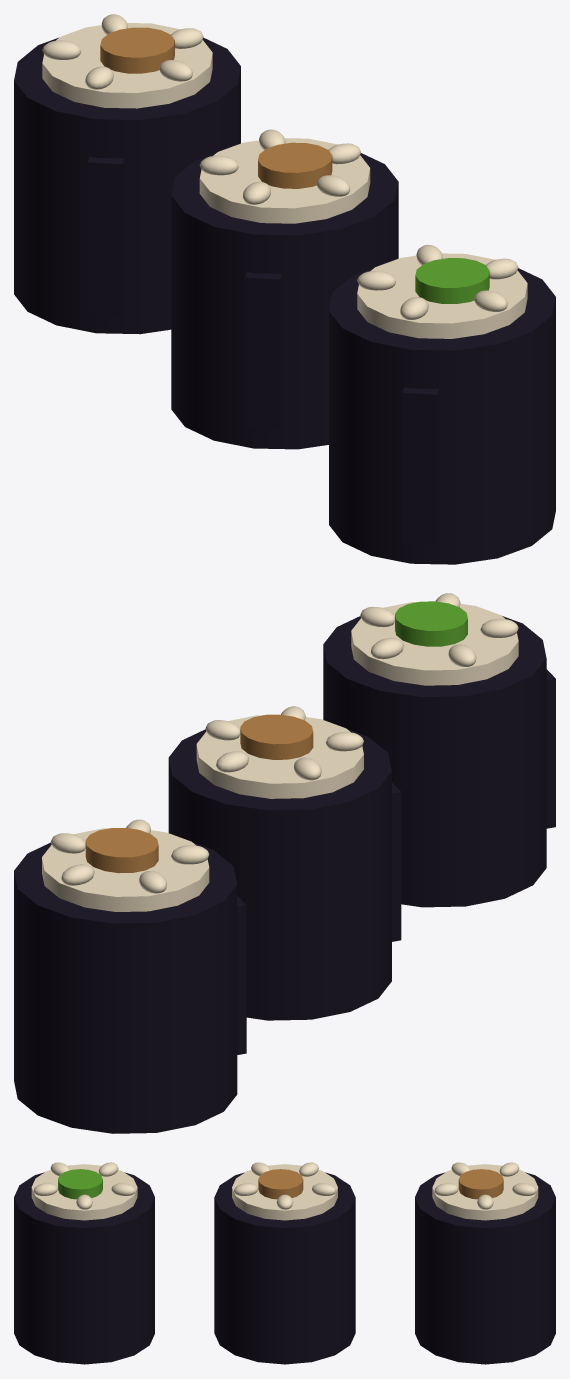
The model's file is CMU3DCMMREFoodSushiExtraCloud.glb.
3 renders of one model, top to bottom at view 1: azimuth 30°, elevation 25°; view 2: azimuth 150°, elevation 25°; view 3: azimuth 270°, elevation 25°, orthographic. The views are drawn at different scales.
Visible parts, largest first — view 1: MRE maki 3 dark nori wrapper, MRE maki 1 dark nori wrapper, MRE maki 2 dark nori wrapper, MRE maki 2 exposed rice cross-section, MRE maki 3 exposed rice cross-section, MRE maki 1 exposed rice cross-section, MRE maki 3 wrapper overlap seam, MRE maki 1 wrapper overlap seam, MRE maki 2 wrapper overlap seam, MRE maki 1 central filling, MRE maki 2 central filling, MRE maki 3 central filling; view 2: MRE maki 1 dark nori wrapper, MRE maki 3 dark nori wrapper, MRE maki 2 dark nori wrapper, MRE maki 2 exposed rice cross-section, MRE maki 1 exposed rice cross-section, MRE maki 3 exposed rice cross-section, MRE maki 2 central filling, MRE maki 1 central filling, MRE maki 3 central filling, MRE maki 3 wrapper overlap seam, MRE maki 1 wrapper overlap seam, MRE maki 2 wrapper overlap seam; view 3: MRE maki 2 dark nori wrapper, MRE maki 1 dark nori wrapper, MRE maki 3 dark nori wrapper, MRE maki 1 exposed rice cross-section, MRE maki 3 exposed rice cross-section, MRE maki 2 exposed rice cross-section, MRE maki 1 central filling, MRE maki 2 central filling, MRE maki 3 central filling.
Part boxes in pixels (left/top/right/bottom): MRE maki 3 dark nori wrapper: left=329, top=268, right=555, bottom=564; MRE maki 1 dark nori wrapper: left=14, top=37, right=240, bottom=334; MRE maki 2 dark nori wrapper: left=171, top=153, right=398, bottom=449; MRE maki 2 exposed rice cross-section: left=199, top=138, right=370, bottom=223; MRE maki 3 exposed rice cross-section: left=357, top=253, right=527, bottom=338; MRE maki 1 exposed rice cross-section: left=42, top=23, right=212, bottom=108; MRE maki 3 wrapper overlap seam: left=402, top=387, right=439, bottom=545; MRE maki 1 wrapper overlap seam: left=87, top=156, right=124, bottom=315; MRE maki 2 wrapper overlap seam: left=245, top=272, right=281, bottom=430; MRE maki 1 central filling: left=100, top=27, right=174, bottom=73; MRE maki 2 central filling: left=258, top=142, right=332, bottom=188; MRE maki 3 central filling: left=415, top=258, right=489, bottom=303; MRE maki 1 dark nori wrapper: left=14, top=842, right=237, bottom=1133; MRE maki 3 dark nori wrapper: left=323, top=616, right=546, bottom=907; MRE maki 2 dark nori wrapper: left=168, top=729, right=391, bottom=1020; MRE maki 2 exposed rice cross-section: left=196, top=715, right=363, bottom=798; MRE maki 1 exposed rice cross-section: left=42, top=828, right=209, bottom=911; MRE maki 3 exposed rice cross-section: left=351, top=602, right=518, bottom=685; MRE maki 2 central filling: left=240, top=714, right=313, bottom=759; MRE maki 1 central filling: left=85, top=828, right=158, bottom=873; MRE maki 3 central filling: left=395, top=601, right=467, bottom=646; MRE maki 3 wrapper overlap seam: left=546, top=669, right=555, bottom=828; MRE maki 1 wrapper overlap seam: left=237, top=896, right=246, bottom=1054; MRE maki 2 wrapper overlap seam: left=392, top=782, right=401, bottom=941; MRE maki 2 dark nori wrapper: left=214, top=1172, right=355, bottom=1364; MRE maki 1 dark nori wrapper: left=415, top=1172, right=555, bottom=1364; MRE maki 3 dark nori wrapper: left=14, top=1172, right=154, bottom=1364; MRE maki 1 exposed rice cross-section: left=432, top=1164, right=538, bottom=1220; MRE maki 3 exposed rice cross-section: left=31, top=1164, right=137, bottom=1220; MRE maki 2 exposed rice cross-section: left=232, top=1164, right=337, bottom=1220; MRE maki 1 central filling: left=458, top=1169, right=503, bottom=1199; MRE maki 2 central filling: left=258, top=1169, right=303, bottom=1199; MRE maki 3 central filling: left=58, top=1169, right=102, bottom=1199.
Bounding box in the file's own units: 0.176 × 0.2065 × 0.649.
